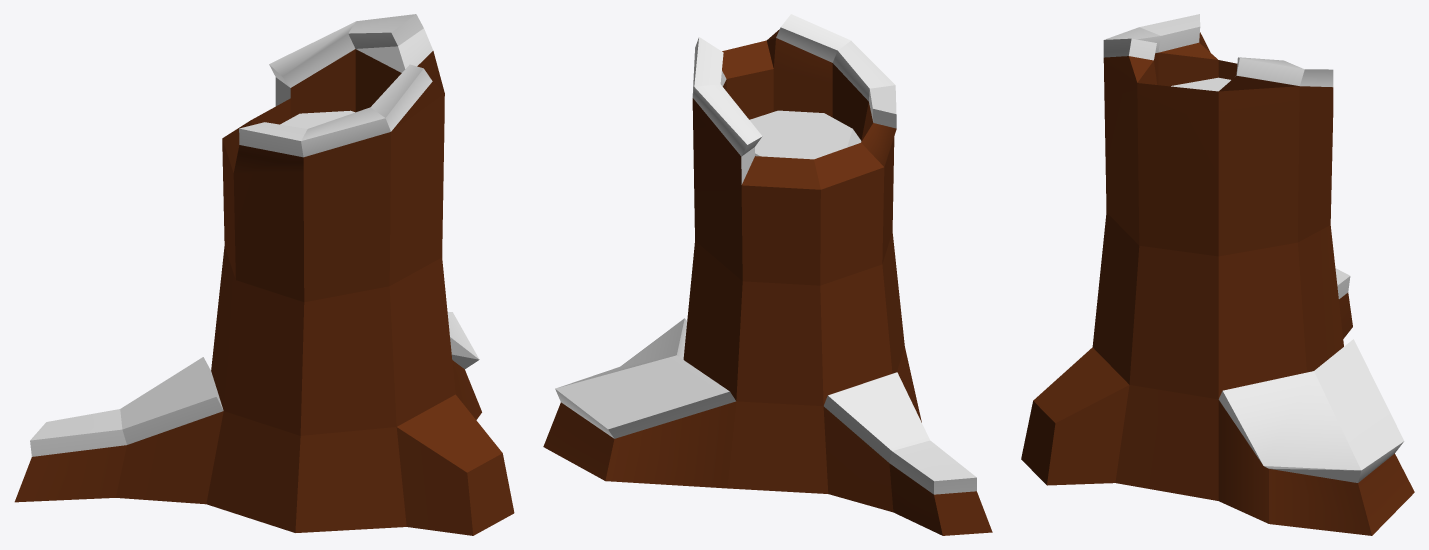
File: Winter_009.fbx
3 views of the same model, side by side, from view 1: azimuth 30°, elevation 25°; view 2: azimuth 150°, elevation 25°; view 3: azimuth 270°, elevation 25° (orthographic). The views are drawn at different scales.
Parts seen in each view (by area): view 1: Winter_009; view 2: Winter_009; view 3: Winter_009.
Part boxes in pixels (<box>): Winter_009: <box>14,14,514,535</box>; Winter_009: <box>543,14,992,535</box>; Winter_009: <box>1021,14,1414,535</box>.
Size of the model in its own units: 1.04 by 0.9105 by 0.7617.
